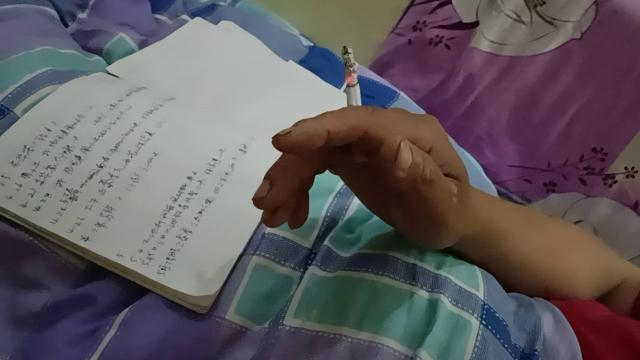Cigarette: (342, 46, 366, 164)
